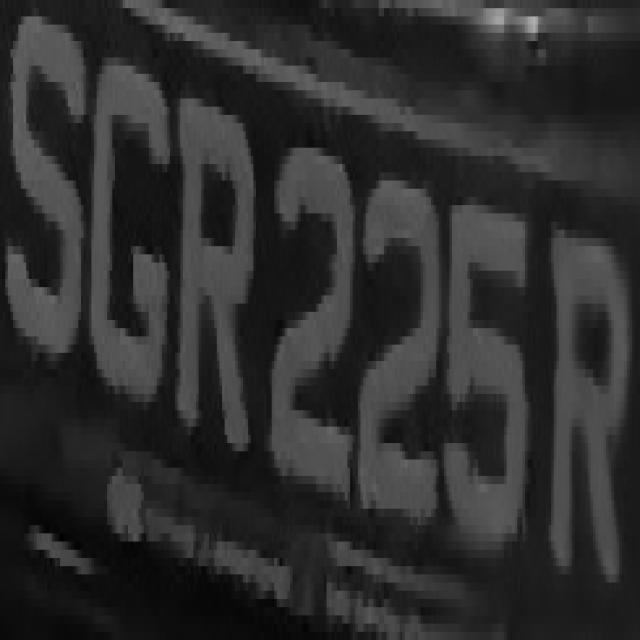2: (352, 131, 447, 542), (266, 148, 356, 558)
5: (442, 132, 536, 574)
G: (86, 16, 172, 427)
R: (175, 66, 256, 500), (546, 197, 627, 607)
S: (5, 24, 86, 393)
